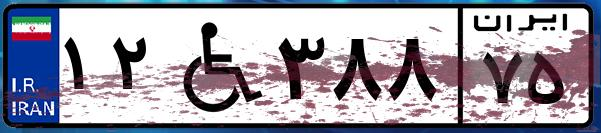1: (57, 26, 110, 100)
2: (110, 28, 158, 98)
3: (270, 28, 330, 110)
5: (525, 38, 570, 115)
7: (475, 38, 525, 113)
8: (385, 28, 445, 110), (330, 28, 385, 110)
ژ (معلولین و جانبازان): (158, 12, 270, 120)
